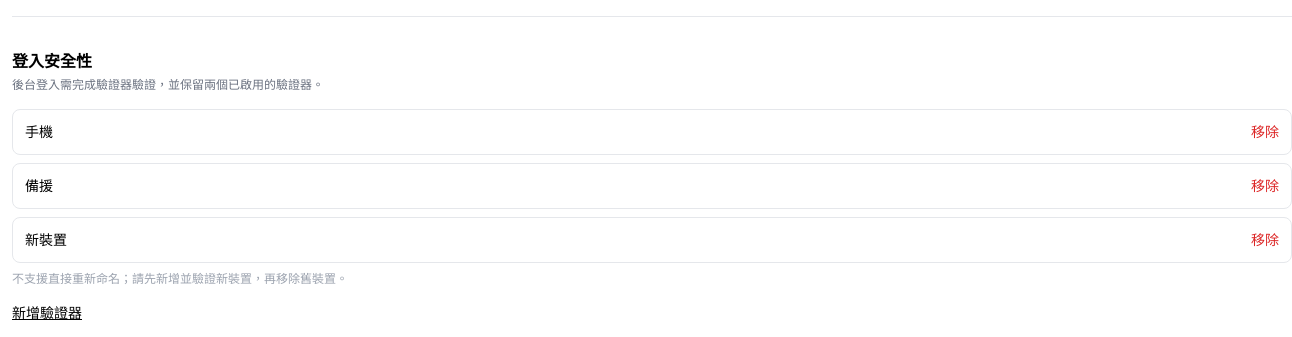
Scenario: does not count a just-removed factor while context is catching up
The image size is (1292, 337).
Step 1. Click the button with aria-label "移除 新裝置" → (1265, 240), box [1251,230,1279,250]
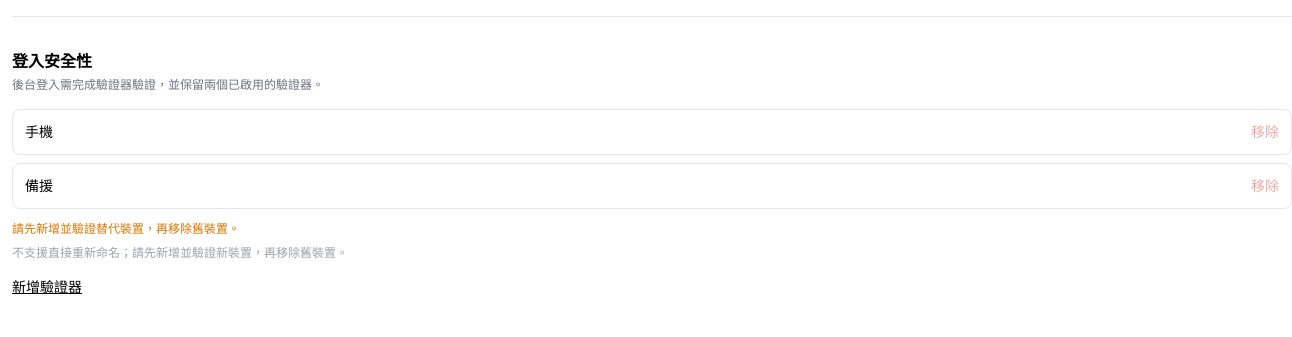
Check: the number of buttons "移除" is 2, box [1251,122,1279,142]; [1251,176,1279,196]
